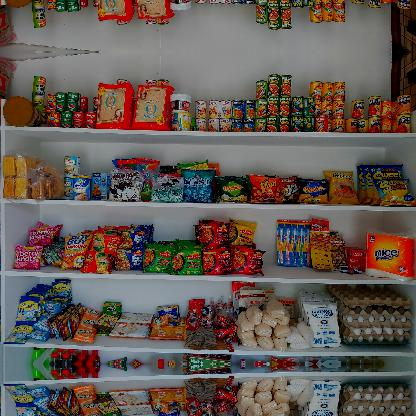Lady-s-Choice: (2, 96, 42, 126), (2, 0, 42, 9)
